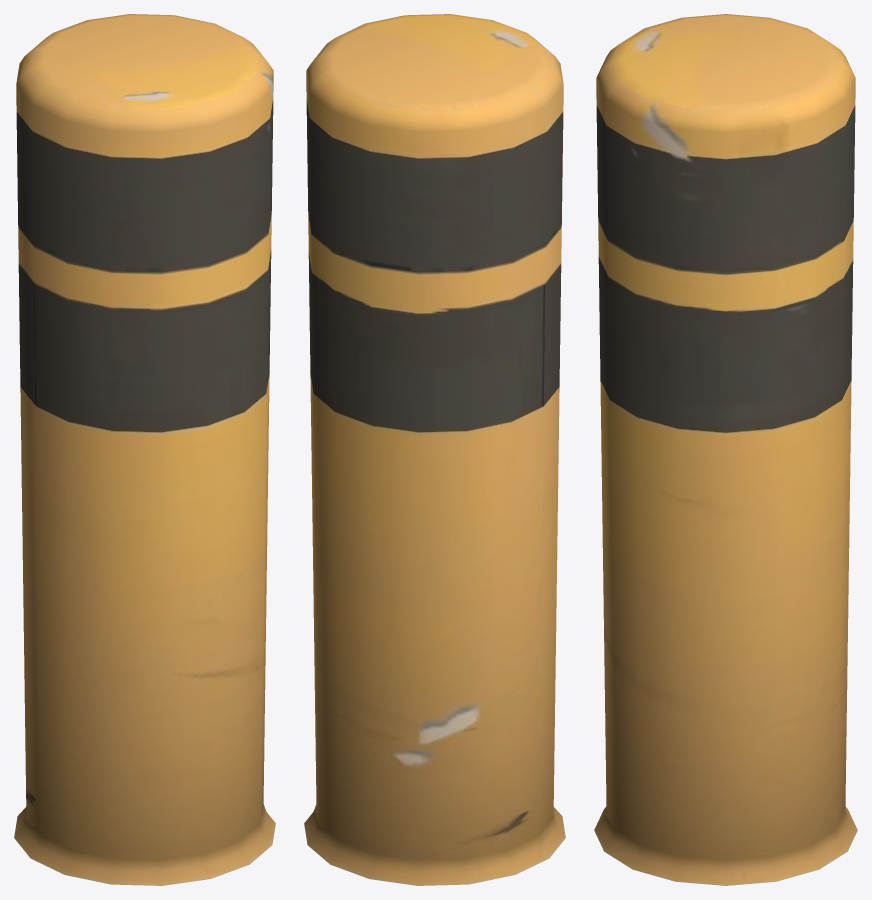
3 renders of one model, left to right at view 1: azimuth 30°, elevation 25°; view 2: azimuth 150°, elevation 25°; view 3: azimuth 270°, elevation 25°, orthographic.
Parts seen in each view (by area): view 1: body0_model0_lod0_mesh0; view 2: body0_model0_lod0_mesh0; view 3: body0_model0_lod0_mesh0.
Boxes of the visible parts, bbox=[...] form: body0_model0_lod0_mesh0: bbox=[14, 14, 275, 885]; body0_model0_lod0_mesh0: bbox=[304, 14, 565, 885]; body0_model0_lod0_mesh0: bbox=[594, 14, 857, 885].
Size of the model in its own units: 17.77 by 57.31 by 17.77.
Materials: 1 (1 with a texture image).
